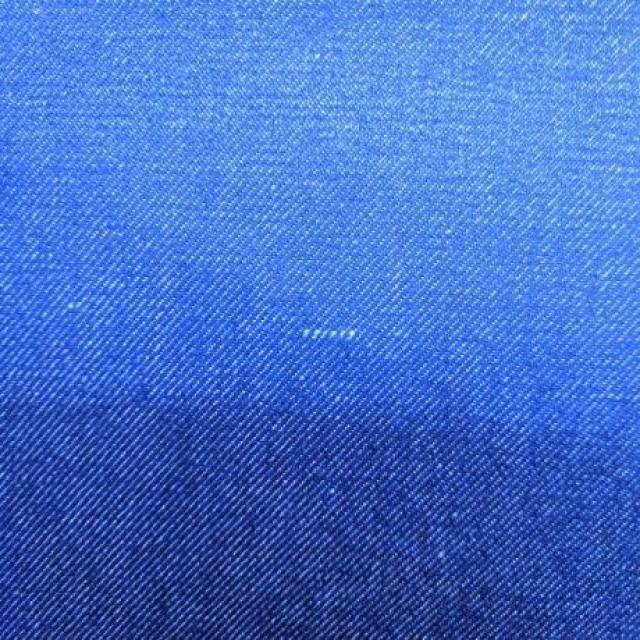Thread_other: (234, 280, 379, 390)
